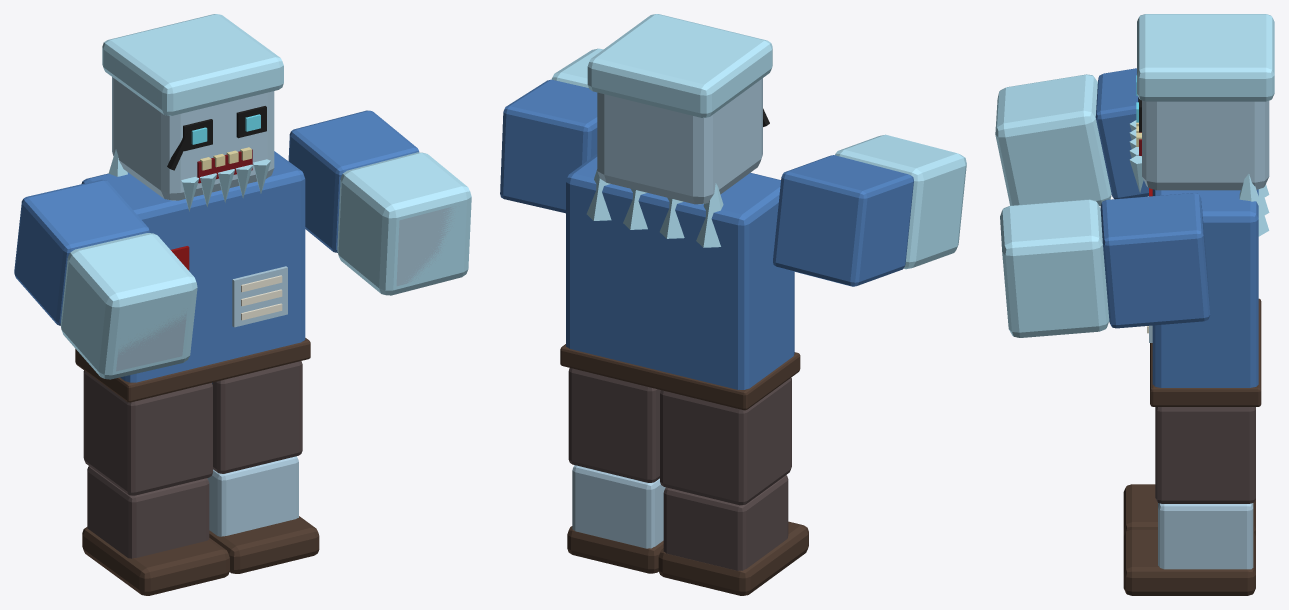
File: zombi_helado.obj
3 renders of one model, left to right at view 1: azimuth 30°, elevation 25°; view 2: azimuth 150°, elevation 25°; view 3: azimuth 270°, elevation 25°, orthographic. The views are drawn at different scales.
Visible parts, largest first — view 1: Torso, Head, LeftArm, LeftLeg, RightArm, RightLeg; view 2: Torso, Head, LeftLeg, LeftArm, RightLeg, RightArm; view 3: RightArm, Head, RightLeg, Torso, LeftArm, LeftLeg.
Boxes of the visible parts, bbox=[...] form: Torso: bbox=[75, 149, 310, 402]; Head: bbox=[102, 14, 283, 211]; LeftArm: bbox=[14, 179, 197, 379]; LeftLeg: bbox=[82, 370, 229, 595]; RightArm: bbox=[288, 110, 471, 295]; RightLeg: bbox=[207, 361, 319, 573]; Torso: bbox=[560, 154, 800, 410]; Head: bbox=[587, 14, 772, 204]; LeftLeg: bbox=[658, 377, 808, 595]; LeftArm: bbox=[773, 134, 966, 286]; RightLeg: bbox=[567, 368, 665, 573]; RightArm: bbox=[500, 48, 603, 213]; RightArm: bbox=[1000, 193, 1210, 337]; Head: bbox=[1129, 14, 1274, 192]; RightLeg: bbox=[1123, 407, 1255, 595]; Torso: bbox=[1147, 174, 1269, 406]; LeftArm: bbox=[995, 68, 1148, 205]; LeftLeg: bbox=[1123, 484, 1255, 535].
Bounding box in the file's own units: 4.1 × 5.34 × 2.63.
1 material, 1 textured.
